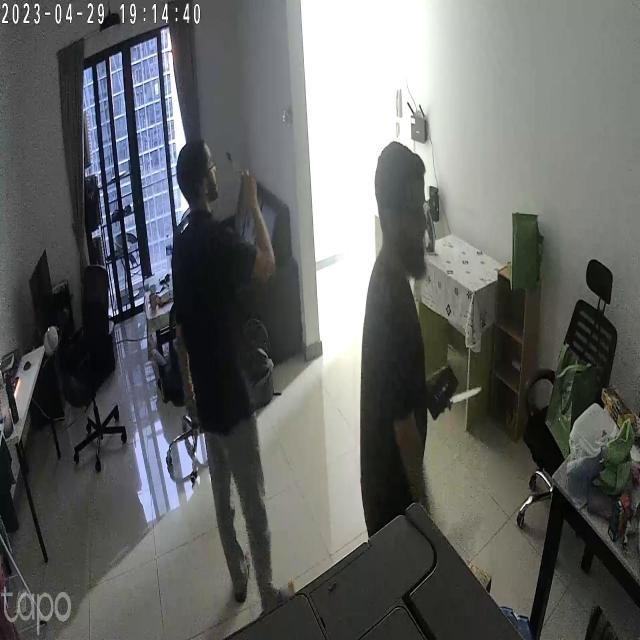Knife: (444, 376, 494, 412)
